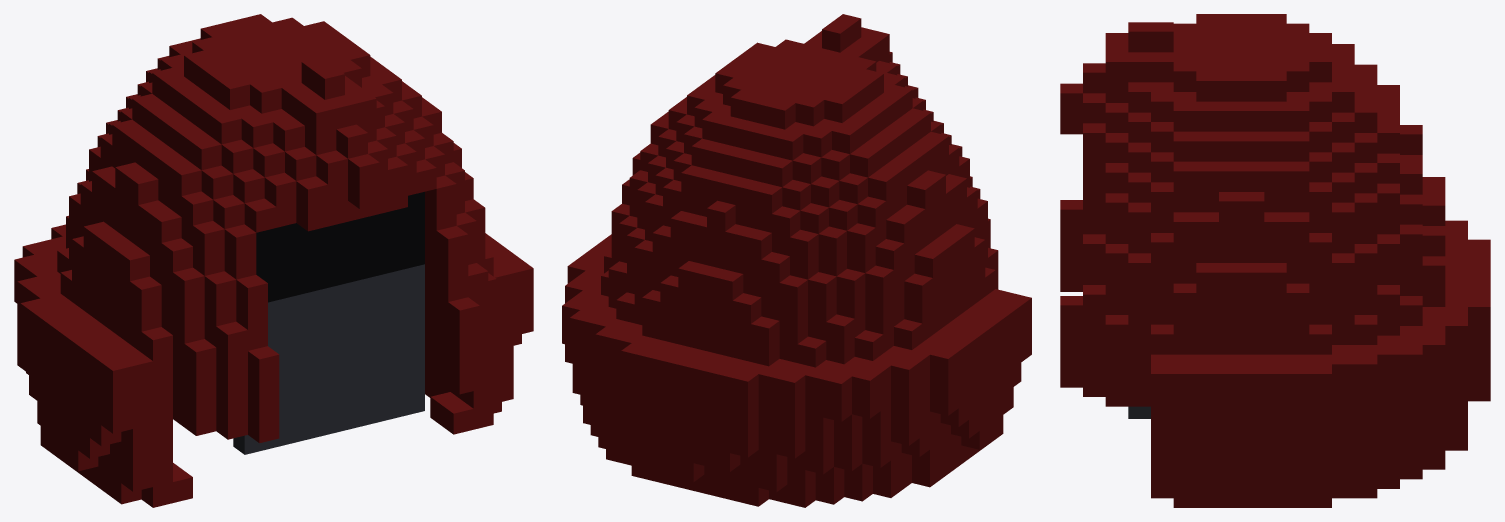
Rendered from lined_coif_lod1.glb.
3 renders of one model, left to right at view 1: azimuth 30°, elevation 25°; view 2: azimuth 150°, elevation 25°; view 3: azimuth 270°, elevation 25°, orthographic. The views are drawn at different scales.
Parts seen in each view (by area): view 1: lined_coif_lod1; view 2: lined_coif_lod1; view 3: lined_coif_lod1.
Part boxes in pixels (<box>): lined_coif_lod1: <box>14,14,533,507</box>; lined_coif_lod1: <box>562,14,1031,507</box>; lined_coif_lod1: <box>1060,14,1490,507</box>.
Size of the model in its own units: 0.504 by 0.456 by 0.456.
